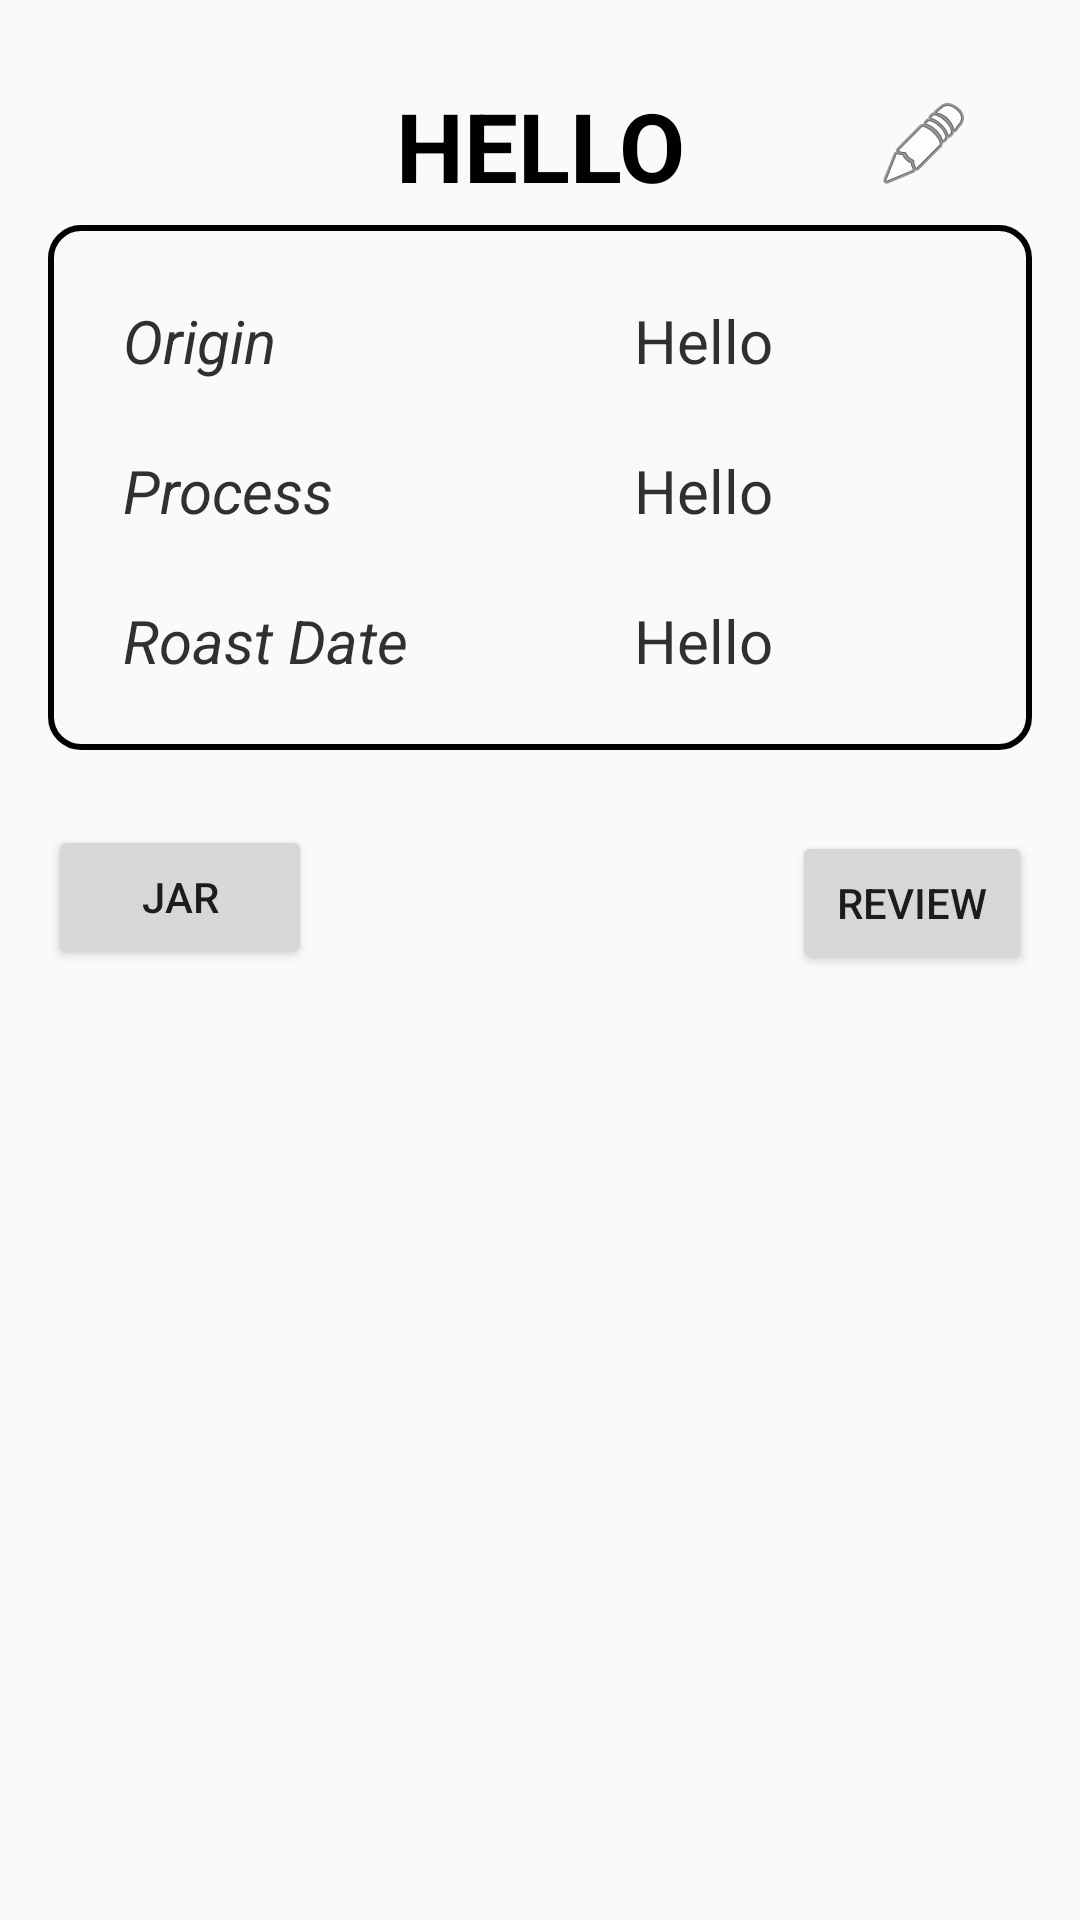

Named icons in this screenshot (1080 x 1920) and their centers, (x=x, y=y):
edit: (x=923, y=143)
